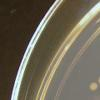yellow: (87, 82, 98, 91), (96, 77, 100, 83)
